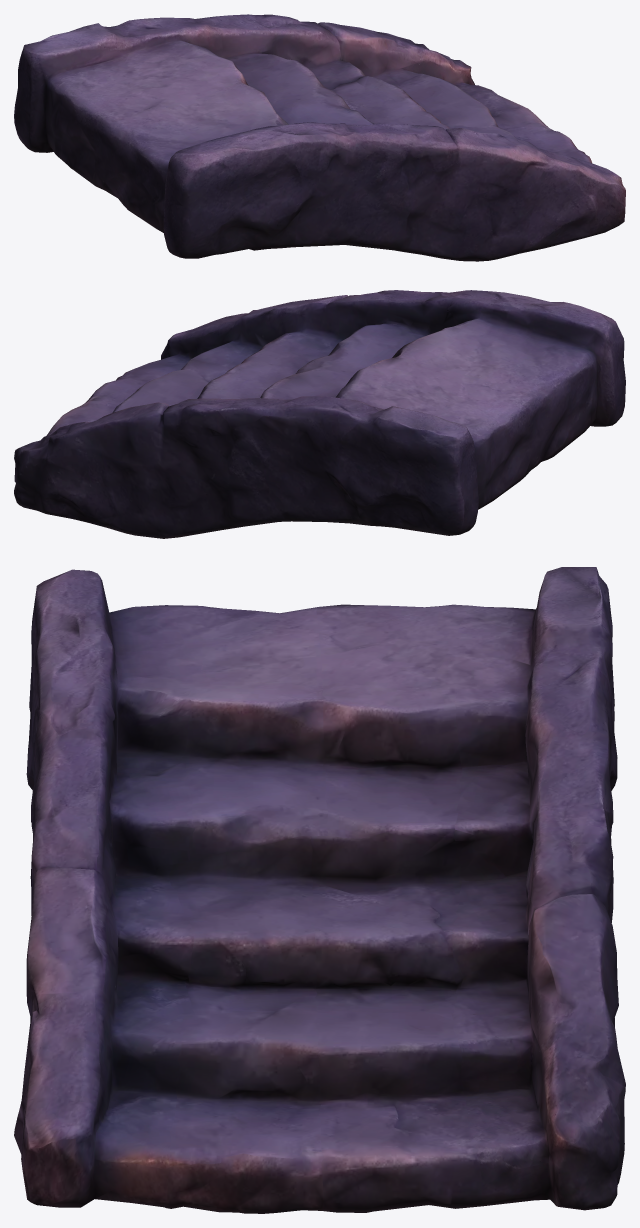
Rendered from descent-stair-web-256.glb.
3 renders of one model, top to bottom at view 1: azimuth 30°, elevation 25°; view 2: azimuth 150°, elevation 25°; view 3: azimuth 270°, elevation 25°, orthographic. The views are drawn at different scales.
Visible parts, largest first — view 1: tripo_node_7bf35ac2-22b8-4498-ad77-142e944d6228; view 2: tripo_node_7bf35ac2-22b8-4498-ad77-142e944d6228; view 3: tripo_node_7bf35ac2-22b8-4498-ad77-142e944d6228.
Part boxes in pixels (x1=…): tripo_node_7bf35ac2-22b8-4498-ad77-142e944d6228: x1=14, y1=14, x2=625, y2=261; tripo_node_7bf35ac2-22b8-4498-ad77-142e944d6228: x1=14, y1=290, x2=625, y2=538; tripo_node_7bf35ac2-22b8-4498-ad77-142e944d6228: x1=14, y1=567, x2=625, y2=1213.
Size of the model in its own units: 0.9989 by 0.3608 by 0.6765.
1 material, 1 textured.
